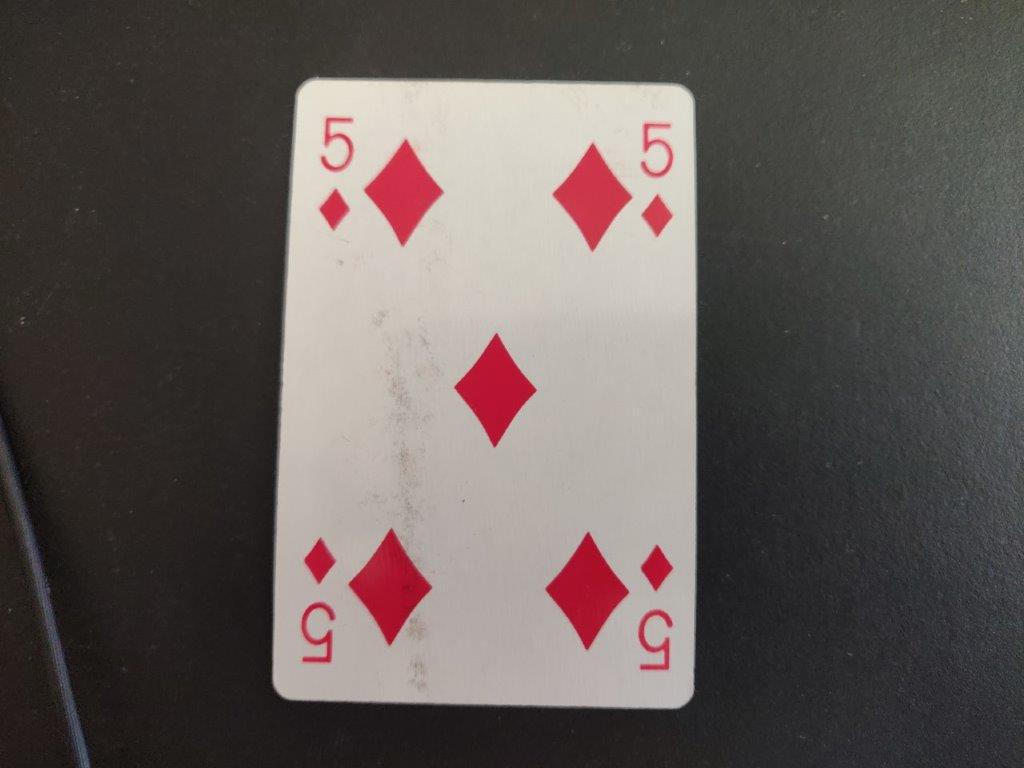5D: (311, 110, 359, 234), (638, 117, 681, 246)
